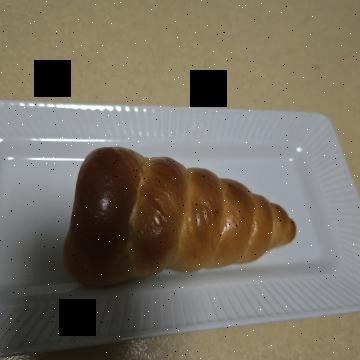cream horn: (133, 52, 316, 310)
